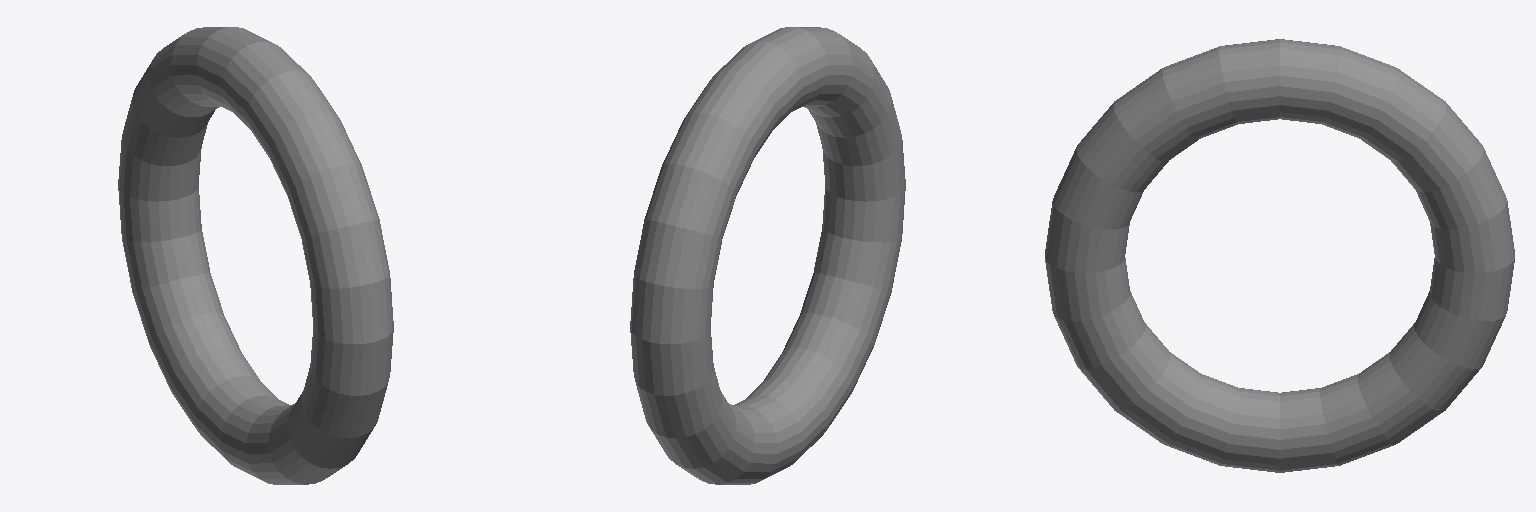
Rendered from test.unity_1.obj.
3 renders of one model, left to right at view 1: azimuth 30°, elevation 25°; view 2: azimuth 150°, elevation 25°; view 3: azimuth 270°, elevation 25°, orthographic.
Visible parts, largest first — view 1: mesh2; view 2: mesh2; view 3: mesh2.
Boxes of the visible parts, box(x1,y1,x2,y2) form: mesh2: box(118, 27, 393, 484); mesh2: box(630, 27, 905, 484); mesh2: box(1045, 39, 1514, 472).
Bounding box in the file's own units: 6.71 × 39.15 × 39.15.